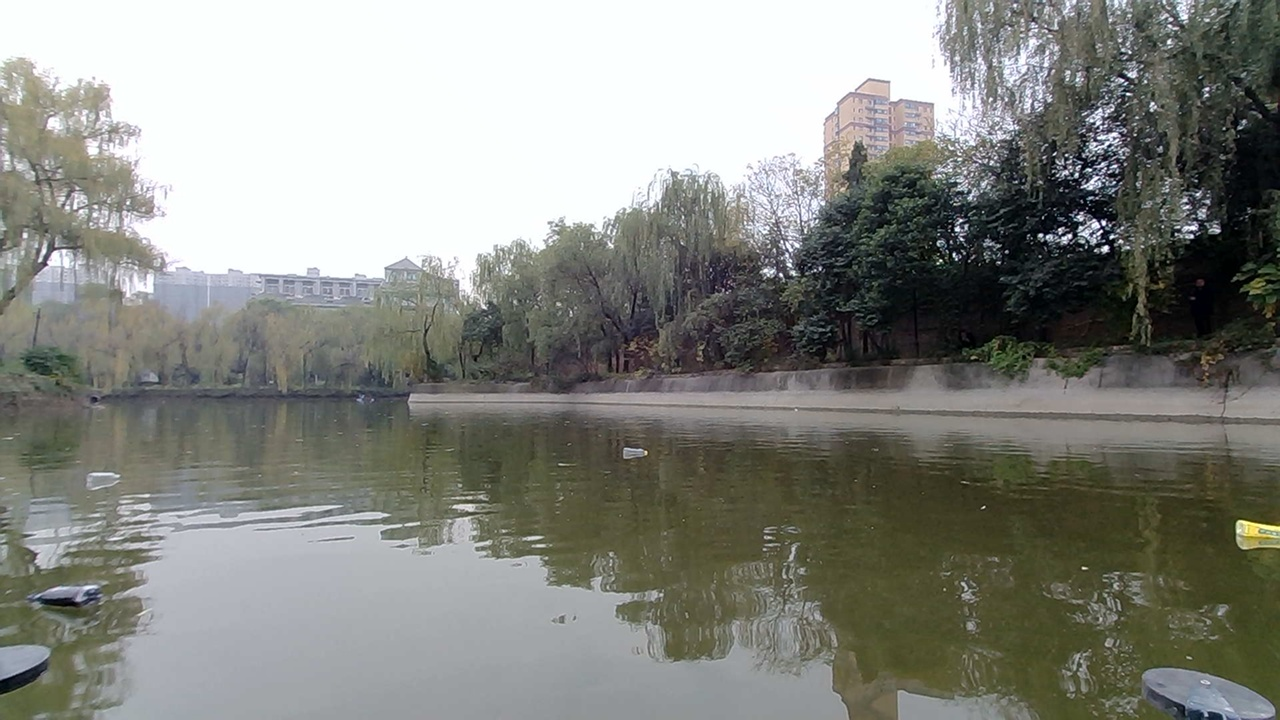bottle: (21, 566, 122, 620), (49, 455, 146, 498), (609, 420, 664, 459), (1233, 513, 1280, 558)
